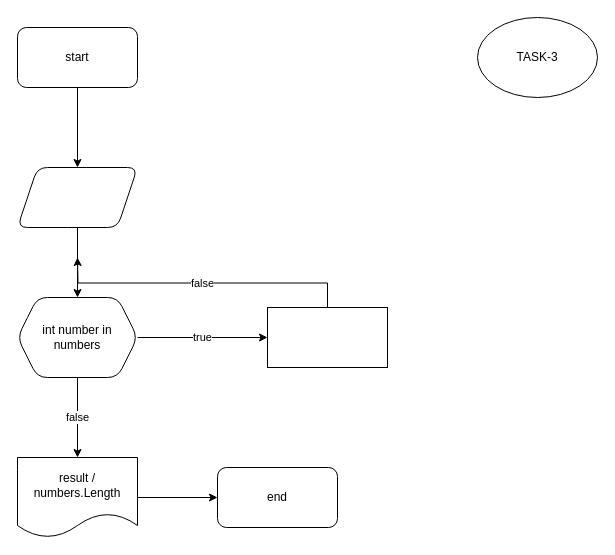
Some shapes in this 615 by 555 pixel diagram are drawn without their labels. Each missing label, with the box of its shape:
numbers,result: (16, 166, 138, 228)
result += number: (266, 306, 388, 368)
